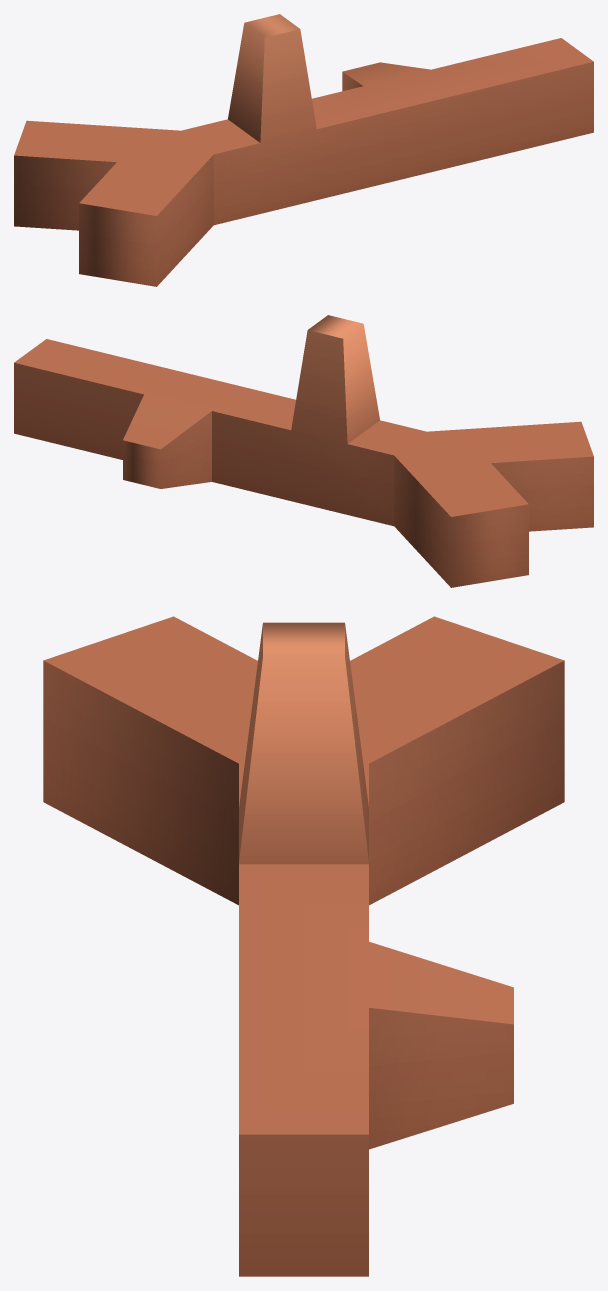
File: surv.resource_wood.glb
3 views of the same model, one above another, from view 1: azimuth 30°, elevation 25°; view 2: azimuth 150°, elevation 25°; view 3: azimuth 270°, elevation 25° (orthographic). The views are drawn at different scales.
Parts seen in each view (by area): view 1: resource-wood; view 2: resource-wood; view 3: resource-wood.
Part boxes in pixels (left/top/right/bottom): resource-wood: left=14, top=14, right=593, bottom=286; resource-wood: left=14, top=315, right=593, bottom=587; resource-wood: left=43, top=616, right=564, bottom=1276.
Size of the model in its own units: 0.5364 by 0.1634 by 0.2279.
1 material, 1 textured.
